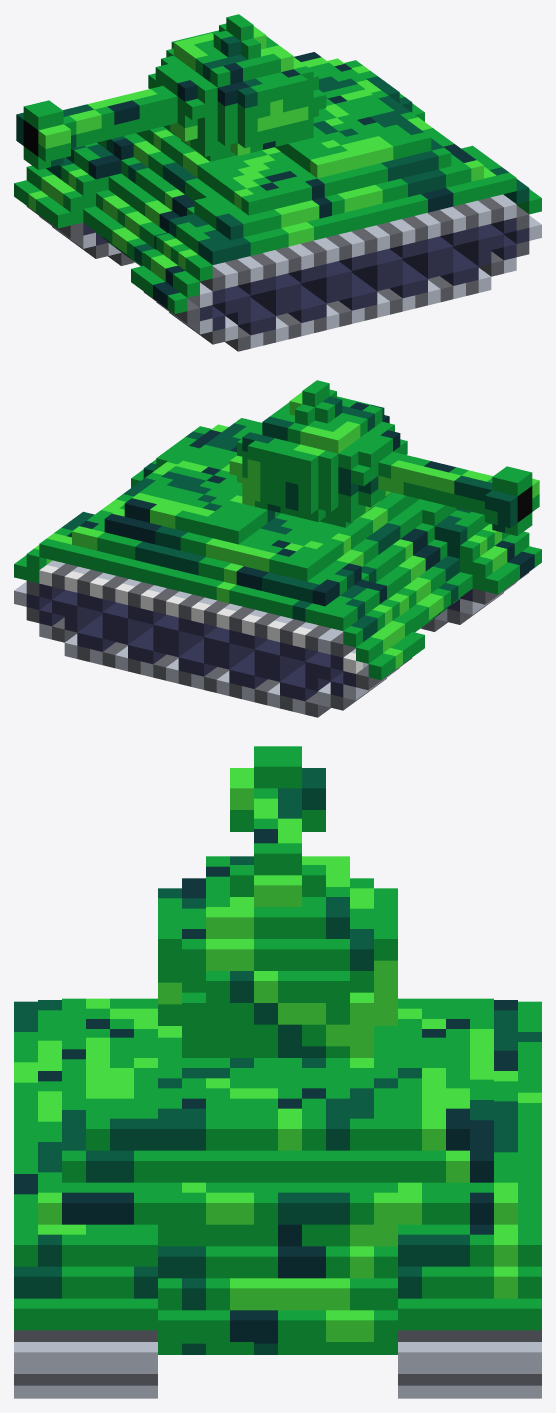
The model's file is tank_margo.obj.
3 renders of one model, top to bottom at view 1: azimuth 30°, elevation 25°; view 2: azimuth 150°, elevation 25°; view 3: azimuth 270°, elevation 25°, orthographic. The views are drawn at different scales.
Bounding box in the file's own units: 3.4 × 1.9 × 2.2.
Materials: 1 (1 with a texture image).
